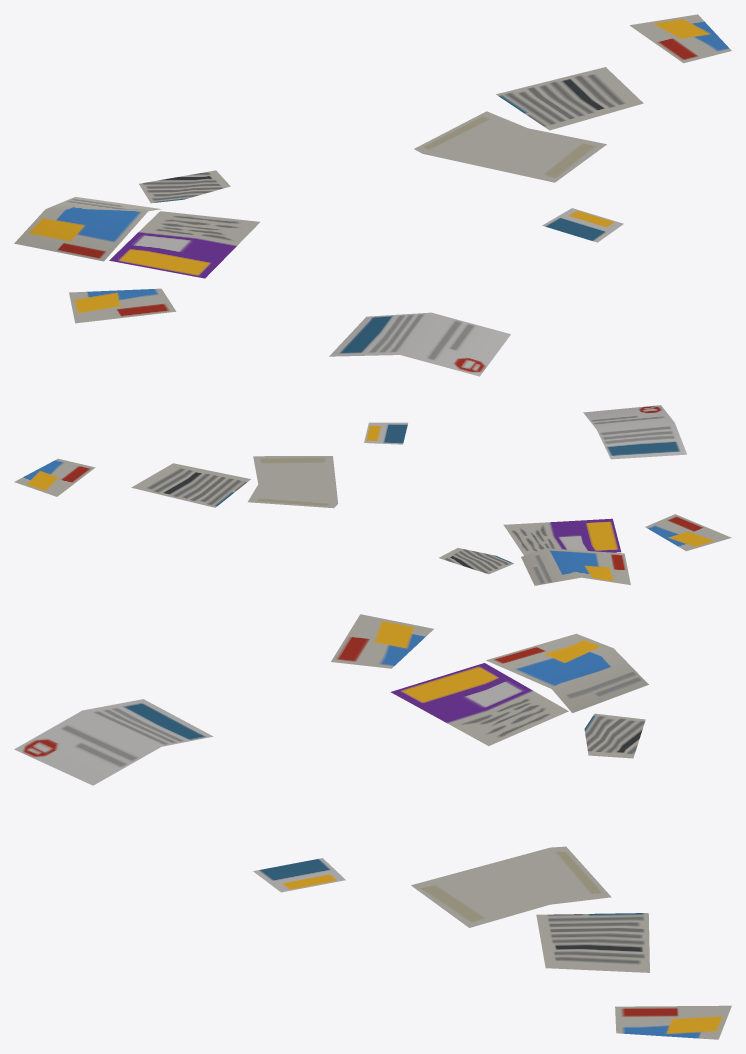
File: SM_Props_Papers_05.fbx
3 renders of one model, top to bottom at view 1: azimuth 30°, elevation 25°; view 2: azimuth 150°, elevation 25°; view 3: azimuth 270°, elevation 25°, orthographic. The views are drawn at different scales.
Parts seen in each view (by area): view 1: SM_Props_Papers_05; view 2: SM_Props_Papers_05; view 3: SM_Props_Papers_05.
Part boxes in pixels (box(x1,y1,x2,y2)): SM_Props_Papers_05: box(14, 14, 731, 376); SM_Props_Papers_05: box(14, 405, 731, 585); SM_Props_Papers_05: box(14, 614, 731, 1039).
Bounding box in the file's own units: 234 × 3.45 × 167.
